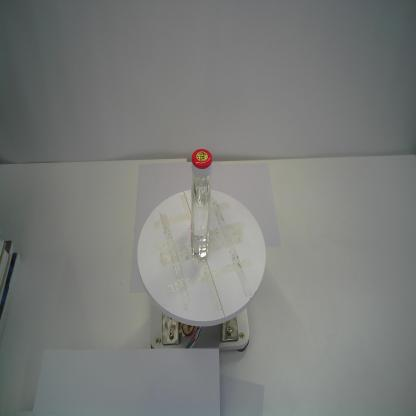Alcohol: (189, 148, 213, 262)
